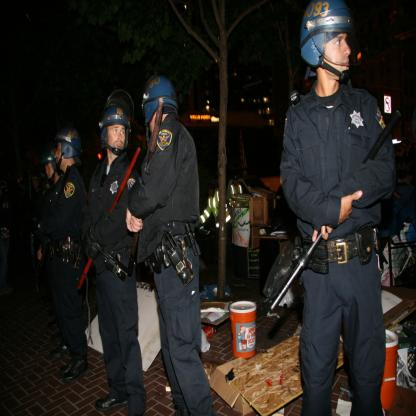Helmet: (296, 4, 356, 85), (98, 92, 133, 156), (141, 80, 173, 145), (48, 124, 82, 176), (44, 148, 64, 192)
